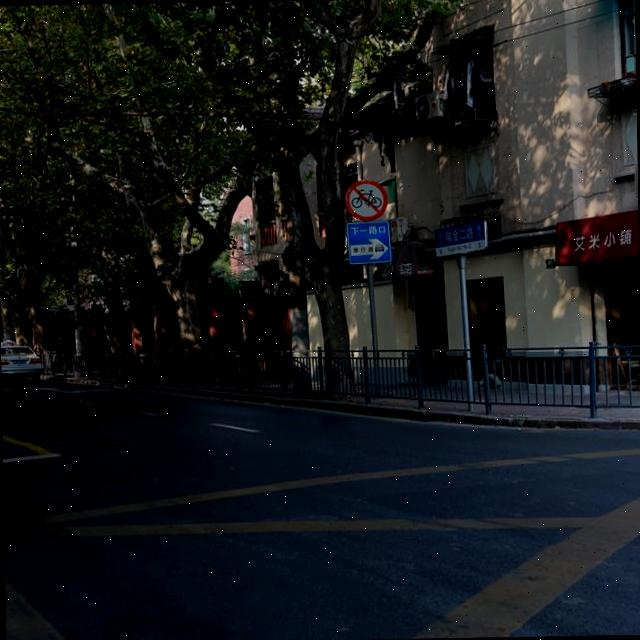curb: (50, 377, 640, 429)
